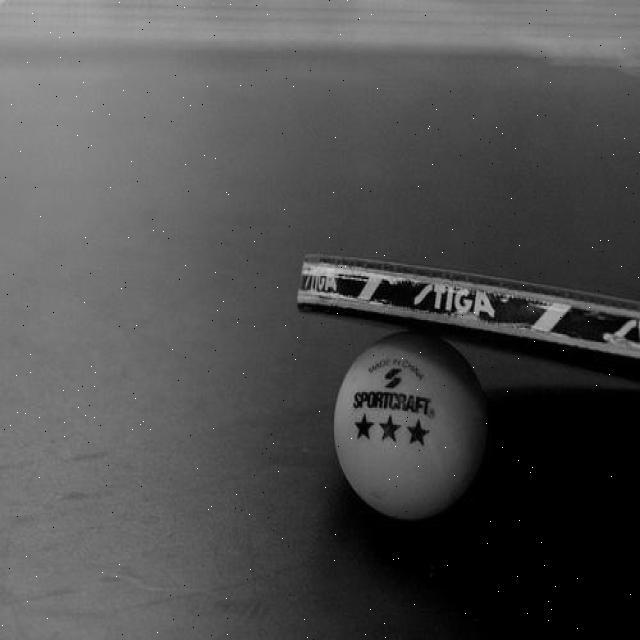ping-pong-ball: (331, 321, 490, 524)
